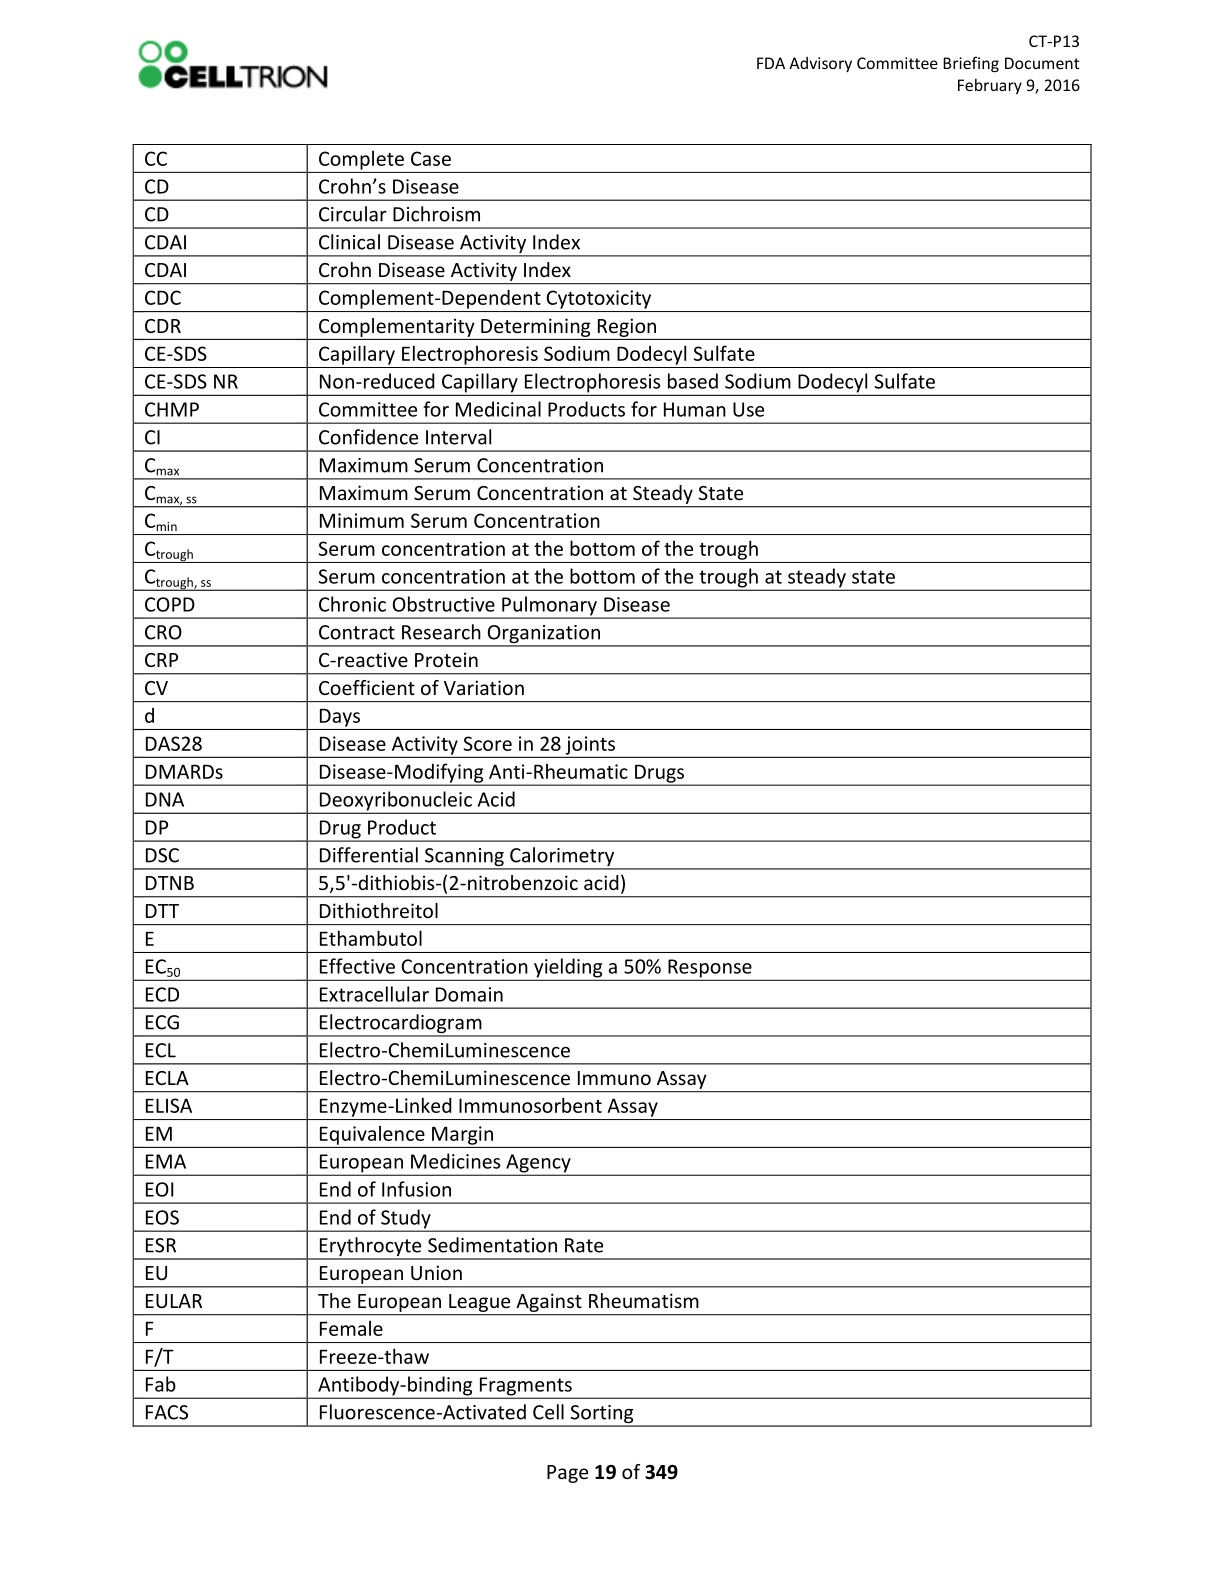full_lined: (131, 143, 1093, 1427)
